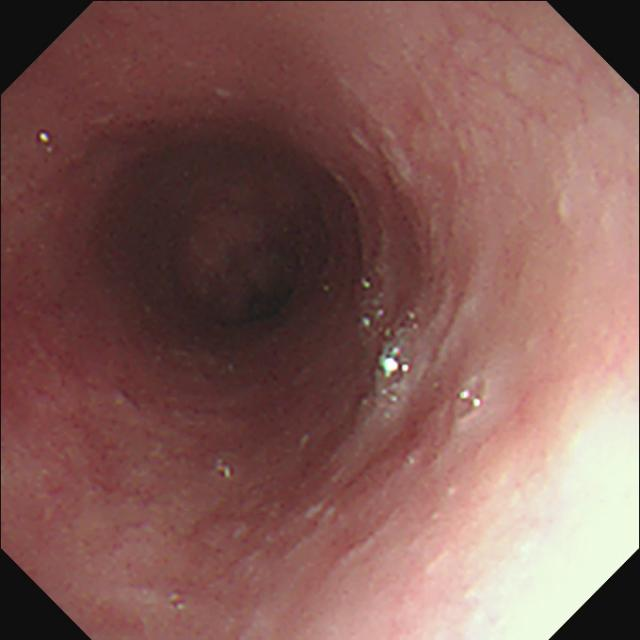E: (111, 141, 334, 344)
T: (453, 372, 484, 422)
U: (378, 354, 410, 376)
